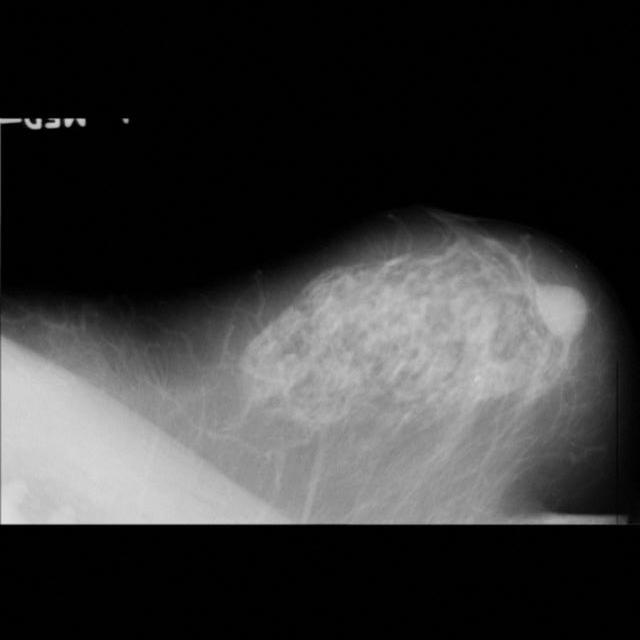CIRC: (531, 278, 593, 339)
